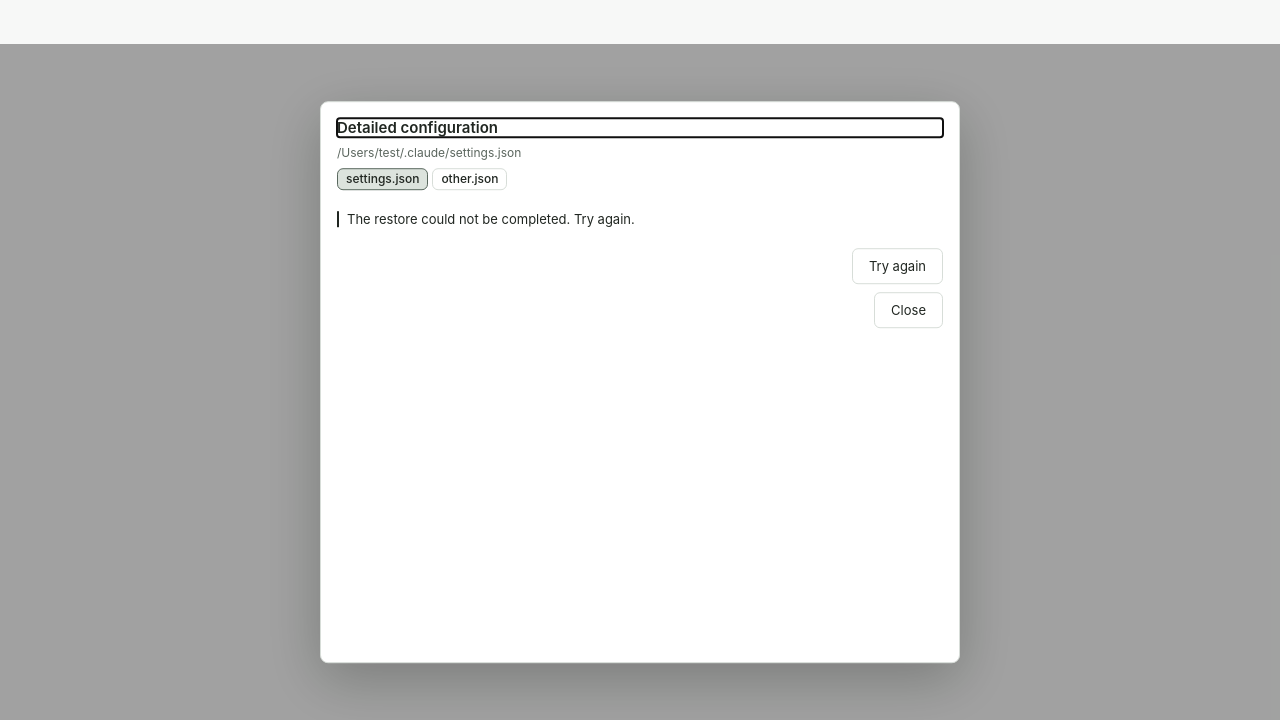
Test: a failed read is reported and can be retried
Expected: the text "The restore could not be completed. Try again." is shown, [337,211,943,227]
Click the button "Try again": (897,266) [852,248,943,284]
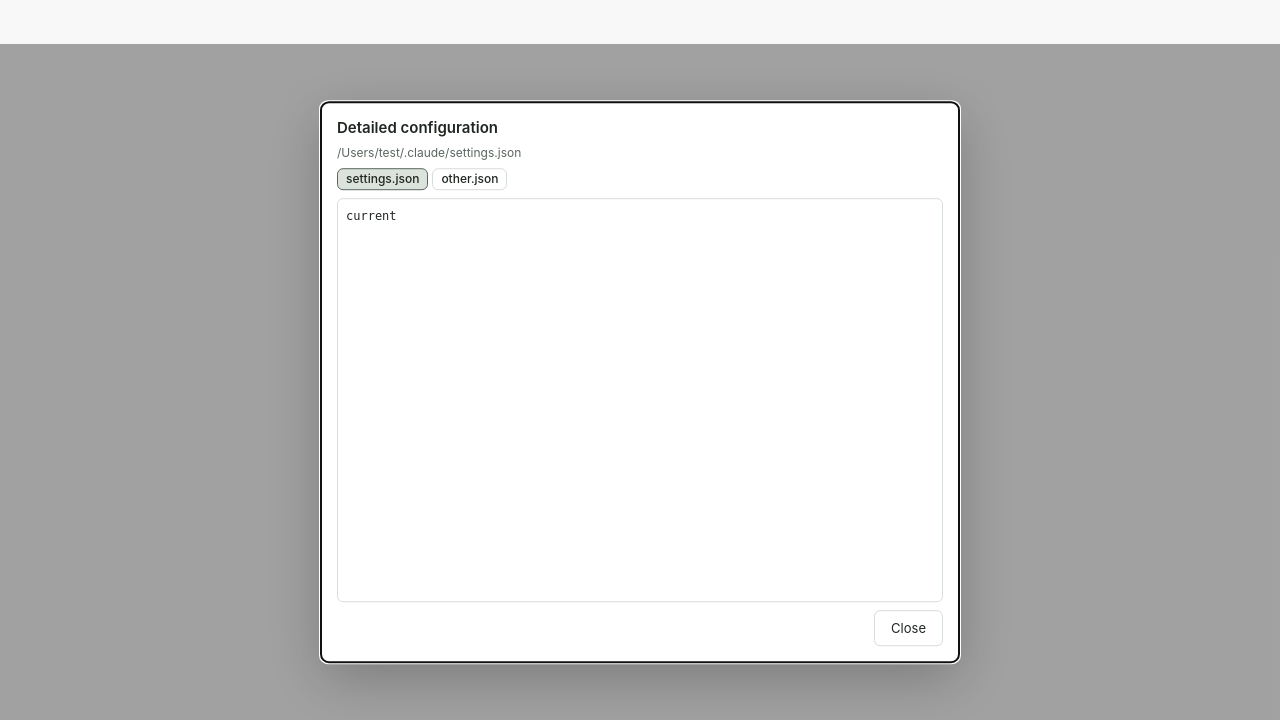
Expected: the text "current" is shown, [346,209,397,223]
